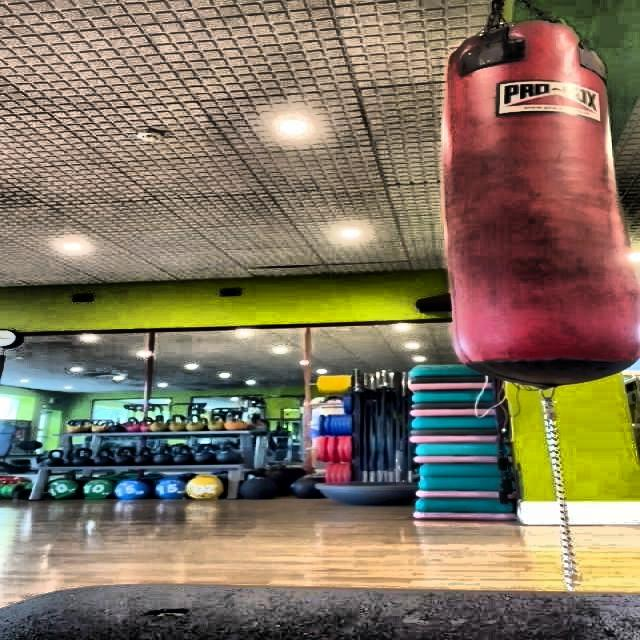boxing-bag: (445, 4, 640, 392)
